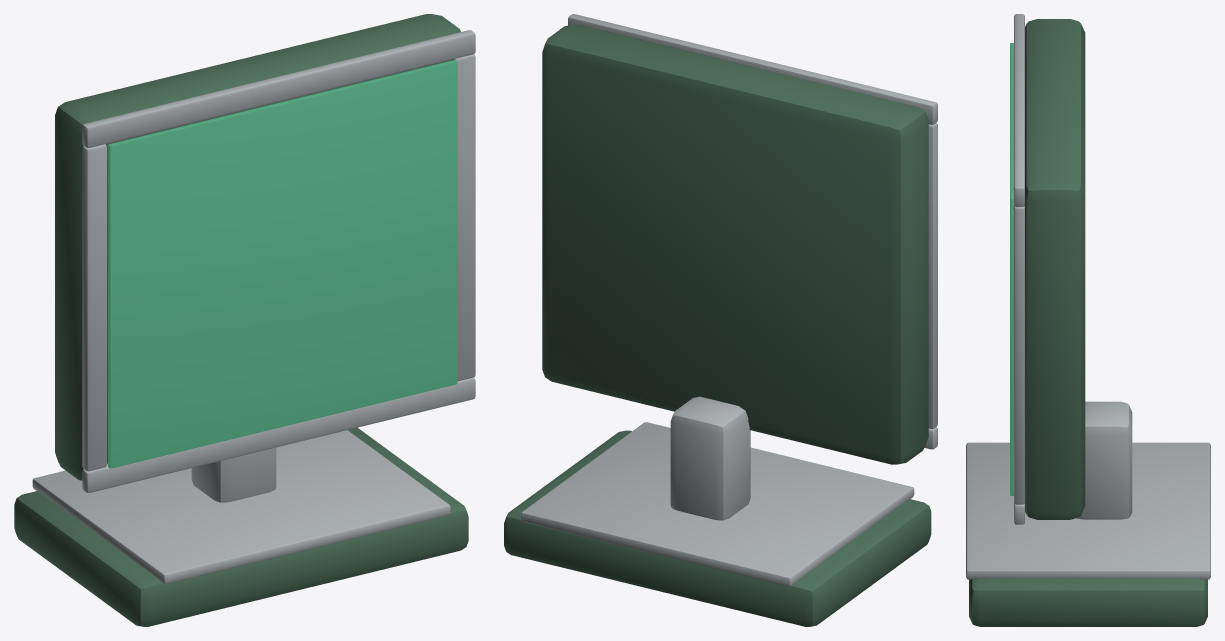
The model's file is pos_terminal_public.glb.
3 renders of one model, left to right at view 1: azimuth 30°, elevation 25°; view 2: azimuth 150°, elevation 25°; view 3: azimuth 270°, elevation 25°, orthographic. The views are drawn at different scales.
Parts seen in each view (by area): view 1: POS_Screen, POS_BaseTrim, POS_Base, POS_Back, POS_TrimTop, POS_TrimSide_-1, POS_TrimBottom, POS_TrimSide_1, POS_Stem; view 2: POS_Back, POS_BaseTrim, POS_Base, POS_Stem, POS_TrimTop, POS_TrimSide_-1; view 3: POS_Back, POS_BaseTrim, POS_Base, POS_Stem, POS_TrimSide_1, POS_TrimTop, POS_Screen.
Boxes of the visible parts, bbox=[...] form: POS_Screen: bbox=[108, 60, 457, 468]; POS_BaseTrim: bbox=[32, 430, 450, 584]; POS_Base: bbox=[14, 427, 468, 626]; POS_Back: bbox=[55, 14, 460, 480]; POS_TrimTop: bbox=[82, 30, 475, 147]; POS_TrimSide_-1: bbox=[82, 144, 106, 471]; POS_TrimBottom: bbox=[82, 377, 475, 492]; POS_TrimSide_1: bbox=[451, 54, 475, 381]; POS_Stem: bbox=[191, 447, 276, 502]; POS_Back: bbox=[542, 24, 928, 464]; POS_BaseTrim: bbox=[521, 422, 914, 586]; POS_Base: bbox=[504, 430, 931, 626]; POS_Stem: bbox=[670, 396, 750, 520]; POS_TrimTop: bbox=[568, 14, 937, 124]; POS_TrimSide_-1: bbox=[928, 123, 937, 428]; POS_Back: bbox=[1024, 19, 1085, 519]; POS_BaseTrim: bbox=[966, 442, 1210, 579]; POS_Base: bbox=[969, 578, 1207, 626]; POS_Stem: bbox=[1076, 401, 1132, 519]; POS_TrimSide_1: bbox=[1014, 205, 1024, 504]; POS_TrimTop: bbox=[1014, 14, 1024, 206]; POS_Screen: bbox=[1010, 43, 1013, 495].
Size of what is drawn, in the model's own units: 0.2992 by 0.3633 by 0.1768.
